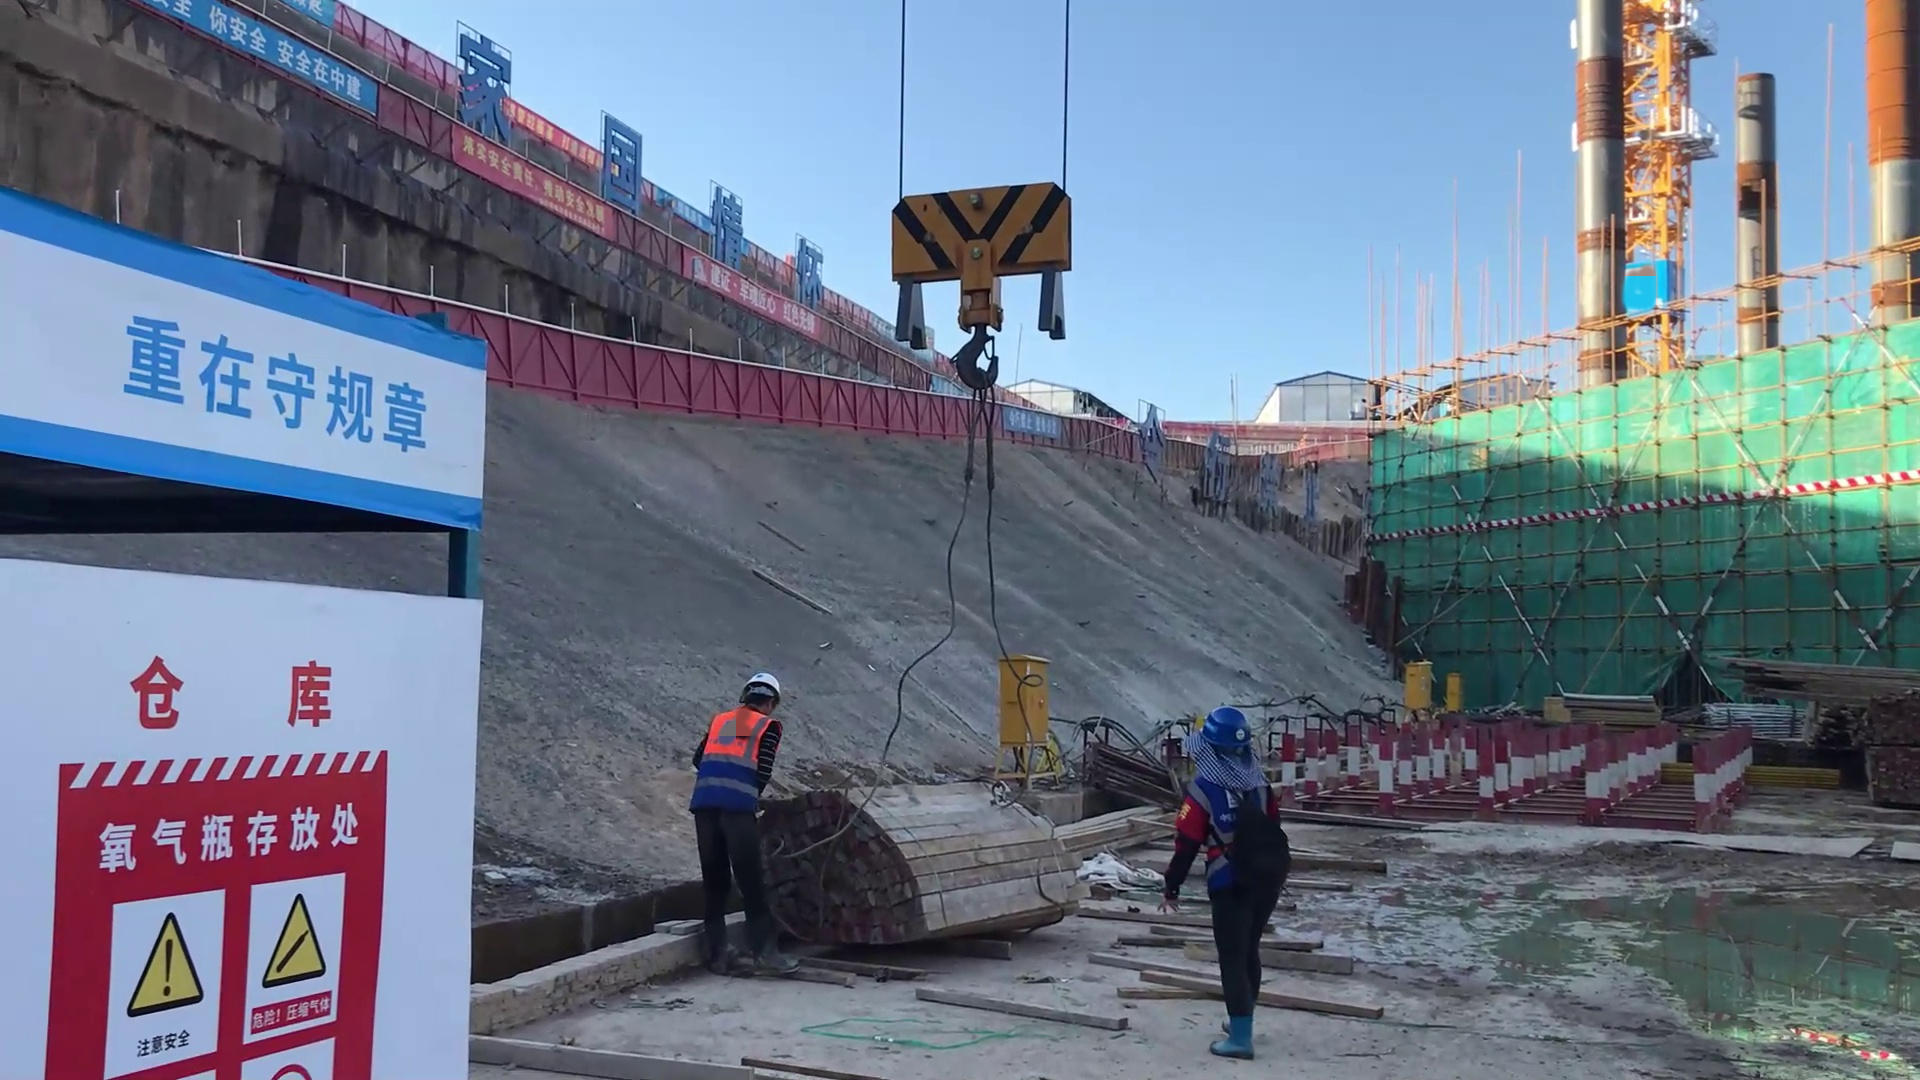ebox: (981, 644, 1073, 779), (1398, 660, 1431, 710), (1443, 673, 1463, 709)
fence: (482, 304, 791, 429), (791, 372, 929, 441)
helmet: (1199, 710, 1257, 763), (739, 673, 778, 707)
hook: (873, 179, 1082, 339)
person: (1149, 701, 1302, 1073), (689, 664, 805, 986)
slogan: (48, 752, 386, 1080), (101, 303, 453, 452), (445, 123, 626, 283), (166, 1, 397, 127)
vest: (702, 705, 765, 761)
wood: (811, 779, 1085, 953), (1728, 649, 1920, 718)
